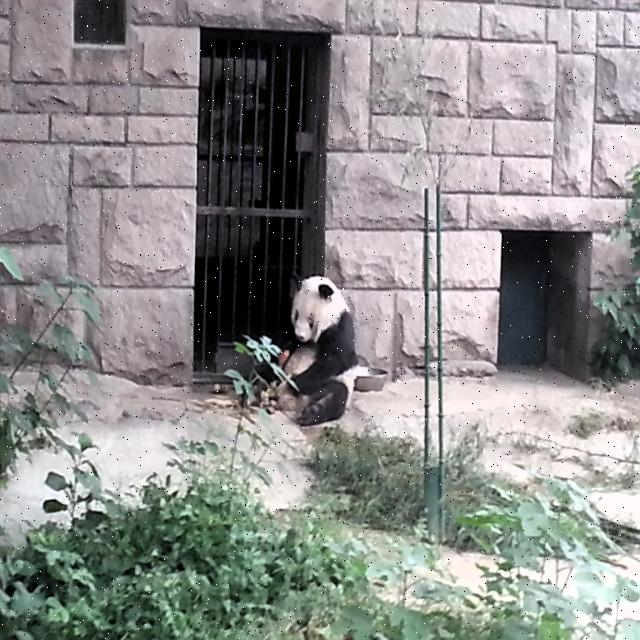panda: (246, 271, 358, 426)
